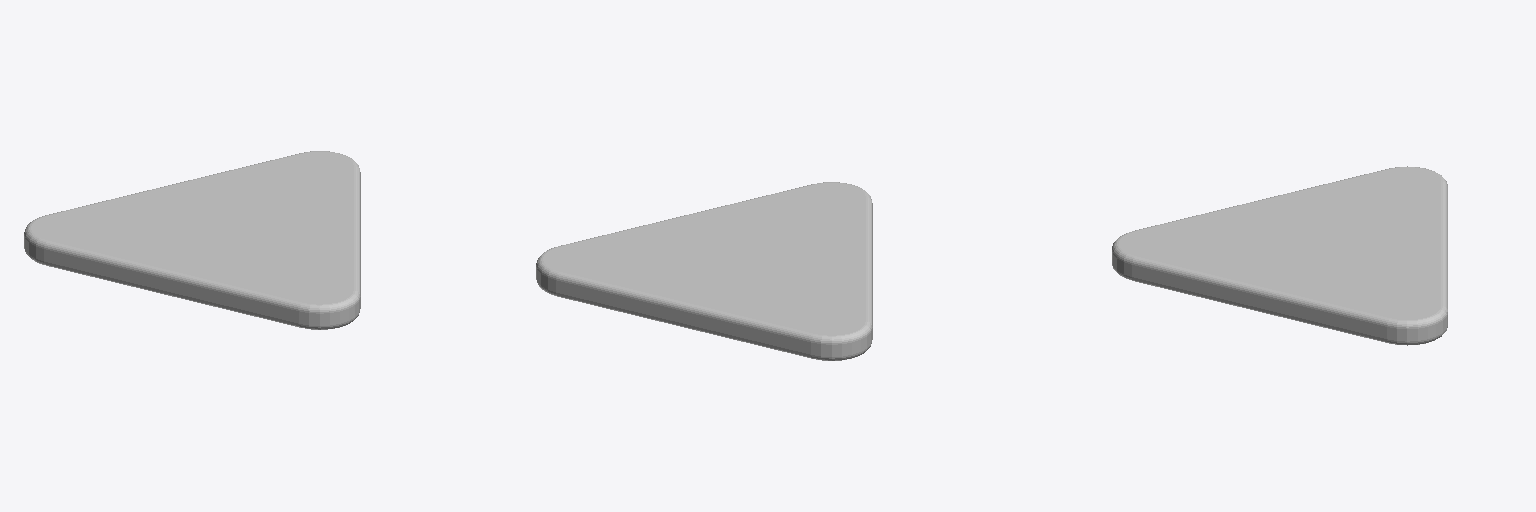
The model's file is Arrow.obj.
The picture shows the model from 3 angles: view 1: azimuth 30°, elevation 25°; view 2: azimuth 150°, elevation 25°; view 3: azimuth 270°, elevation 25°; orthographic projection.
Visible parts, largest first — view 1: Body1; view 2: Body1; view 3: Body1.
Part boxes in pixels (x1,y1,x2,y2): Body1: (24,151,360,329); Body1: (536,182,872,360); Body1: (1112,166,1447,345).
Size of the model in its own units: 1.38 by 0.1 by 1.24.